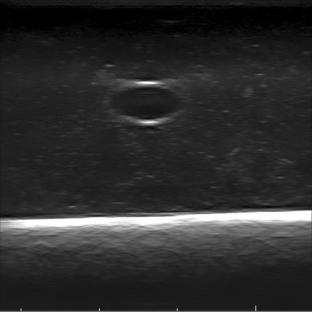vessel: (106, 81, 182, 126)
